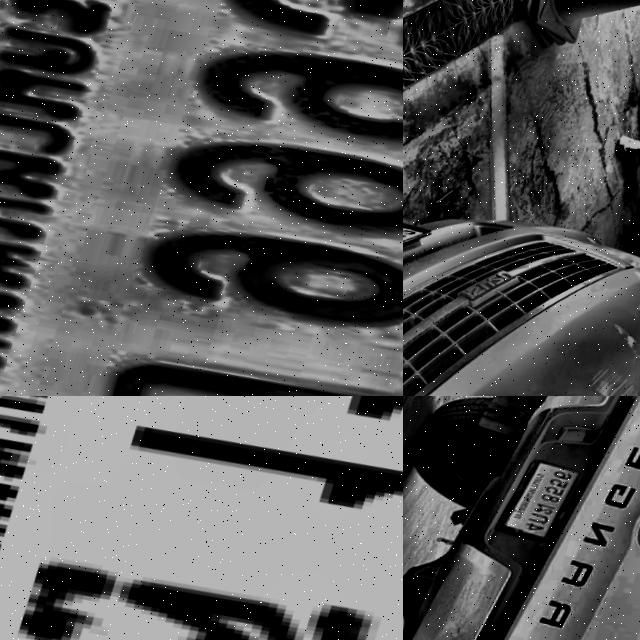license-plate: (0, 0, 403, 396), (0, 396, 403, 640), (498, 454, 589, 547), (403, 198, 445, 295)
